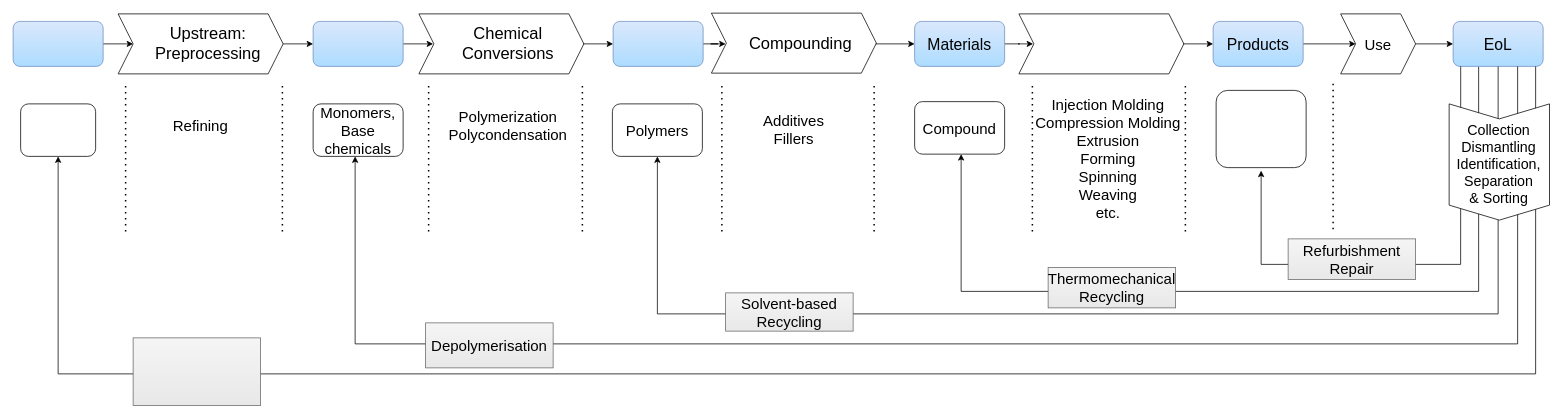
Some shapes in this 1565 by 419 pixel diagram are drawn without their labels. Each missing label, with the centre of its shape:
"Crude oil" goes at pixel 58 129.
"Feedstock" goes at pixel 57 43.
"Feedstock Recycling (Cracking)" goes at pixel 196 371.
"Films Composites Fibres Textiles" goes at pixel 1260 129.
"Manufacturing" goes at pixel 1101 43.
"Molecules" goes at pixel 657 43.
"Processed Feedstock" goes at pixel 357 43.
